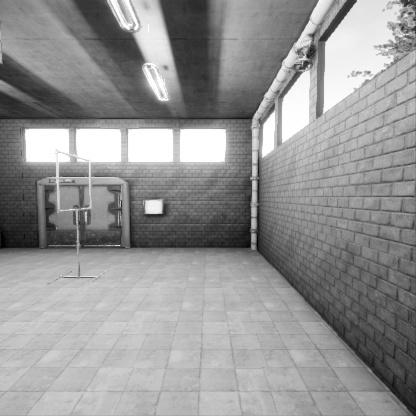gate: (55, 206, 92, 269)
